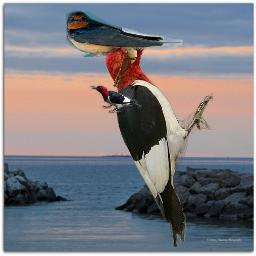Cuckoo: (113, 44, 137, 87)
Swallow: (64, 9, 183, 57)
Woodpecker: (103, 31, 213, 247), (88, 84, 142, 114)
